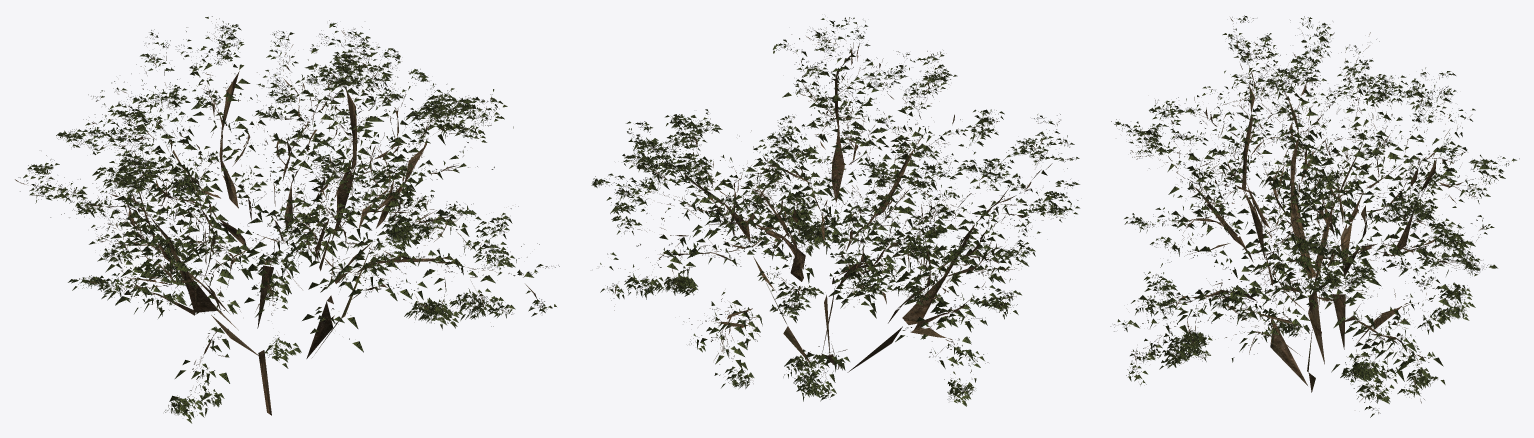
File: jacaranda_tree.glb
3 views of the same model, side by side, from view 1: azimuth 30°, elevation 25°; view 2: azimuth 150°, elevation 25°; view 3: azimuth 270°, elevation 25° (orthographic). The views are drawn at different scales.
Parts seen in each view (by area): view 1: jacaranda_tree; view 2: jacaranda_tree; view 3: jacaranda_tree.
Boxes of the visible parts, x1,y1,x2,y2 form: jacaranda_tree: [15, 16, 559, 423]; jacaranda_tree: [591, 17, 1079, 406]; jacaranda_tree: [1110, 15, 1519, 417].
Size of the model in its own units: 24.09 by 18.87 by 18.59.
3 materials, 3 textured.
